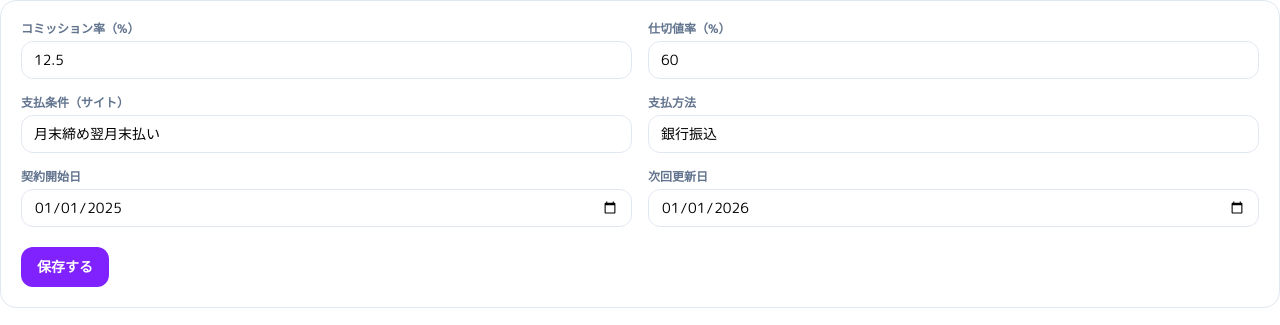
it: ClinicTermsManager › 保存失敗時はAPIのエラーメッセージをトースト表示する
Expected: the number field showing "12.5" below "コミッション率（%）" is shown, [21,41,632,79]
Click the button "保存する": click(65, 267) [21,247,109,287]
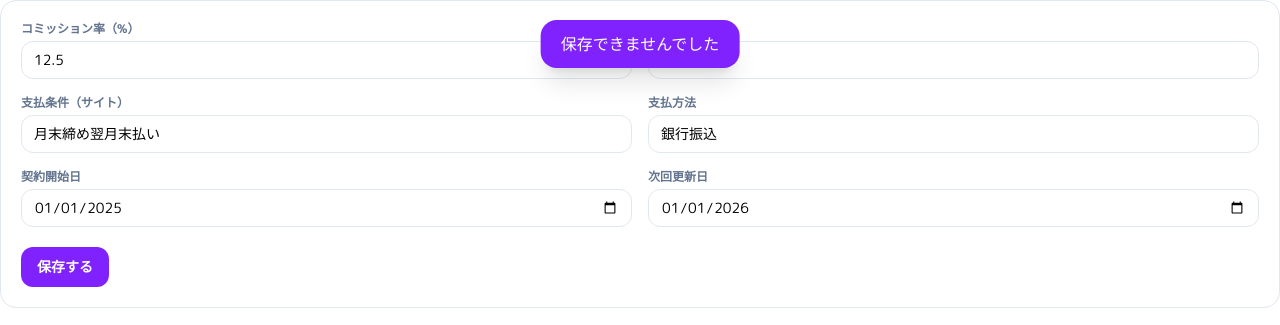
Expected: the text "保存できませんでした" is shown, [541,20,739,68]
